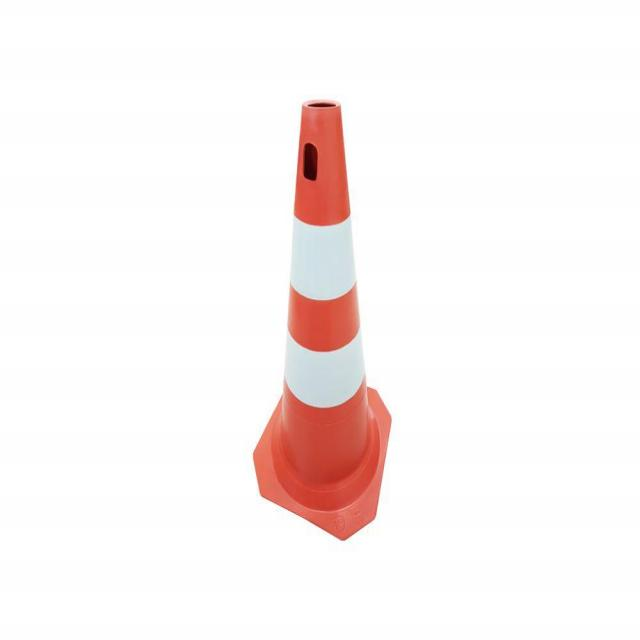cone: (247, 101, 398, 521)
